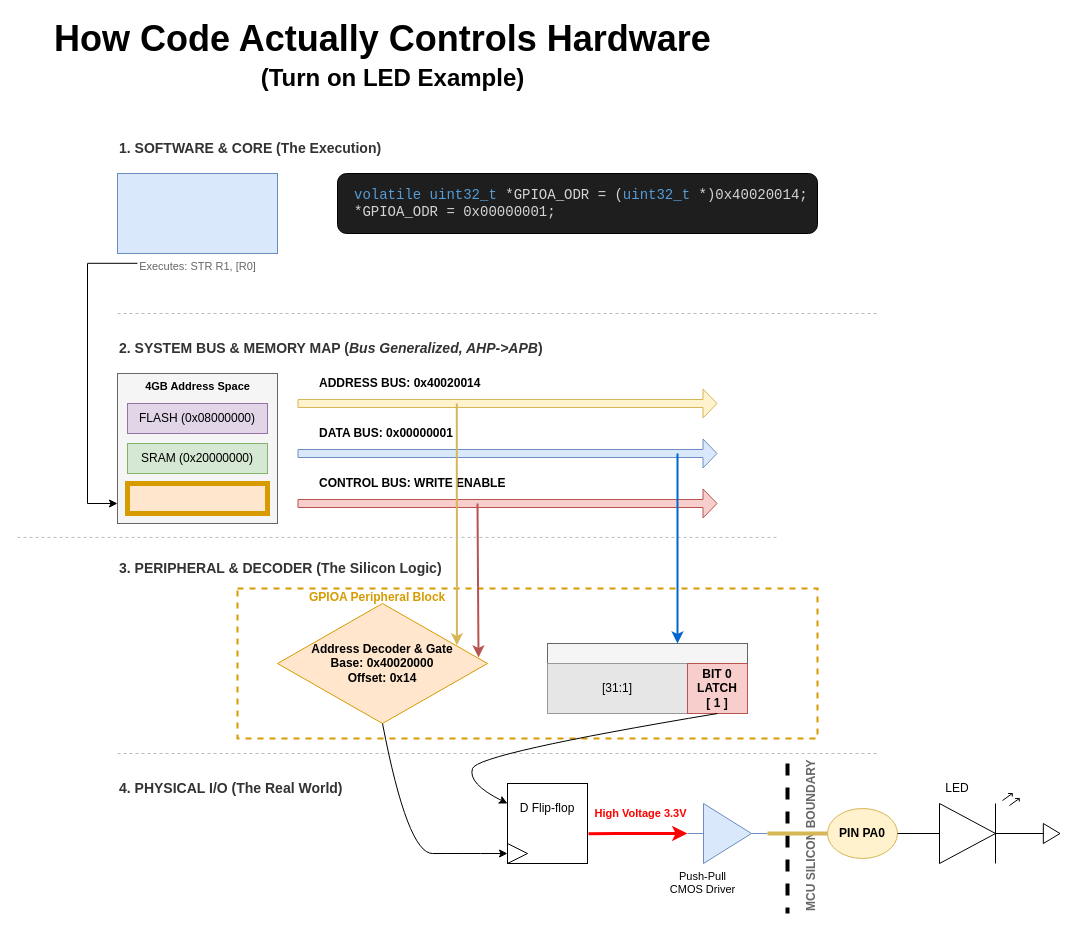
The diagram is 1078 pixels wide and 934 high, and some of its shapes have lost their labels. Here are the shapes that lost their labels. From the top down, the centre of each, then its label:
[197,213]: ARM Cortex-M Core (Load/Store Unit)
[197,498]: PERIPH (0x40000000)
[647,653]: Output Data Reg (ODR)
